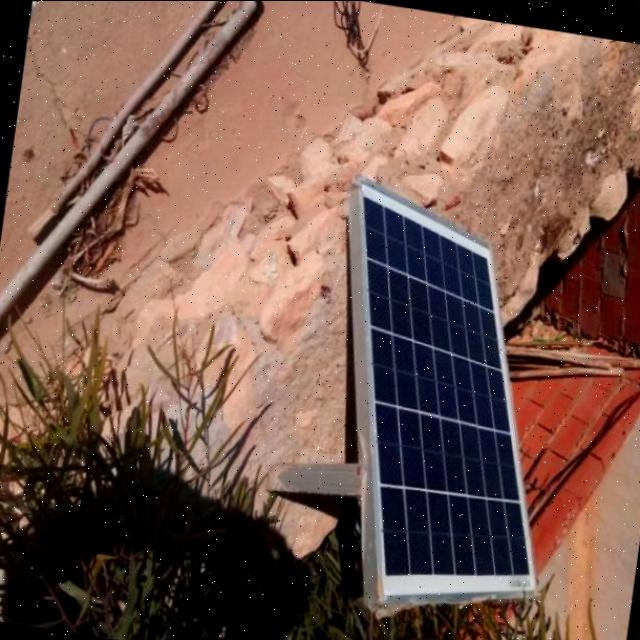Normal Solar Panel: (305, 176, 589, 616)
